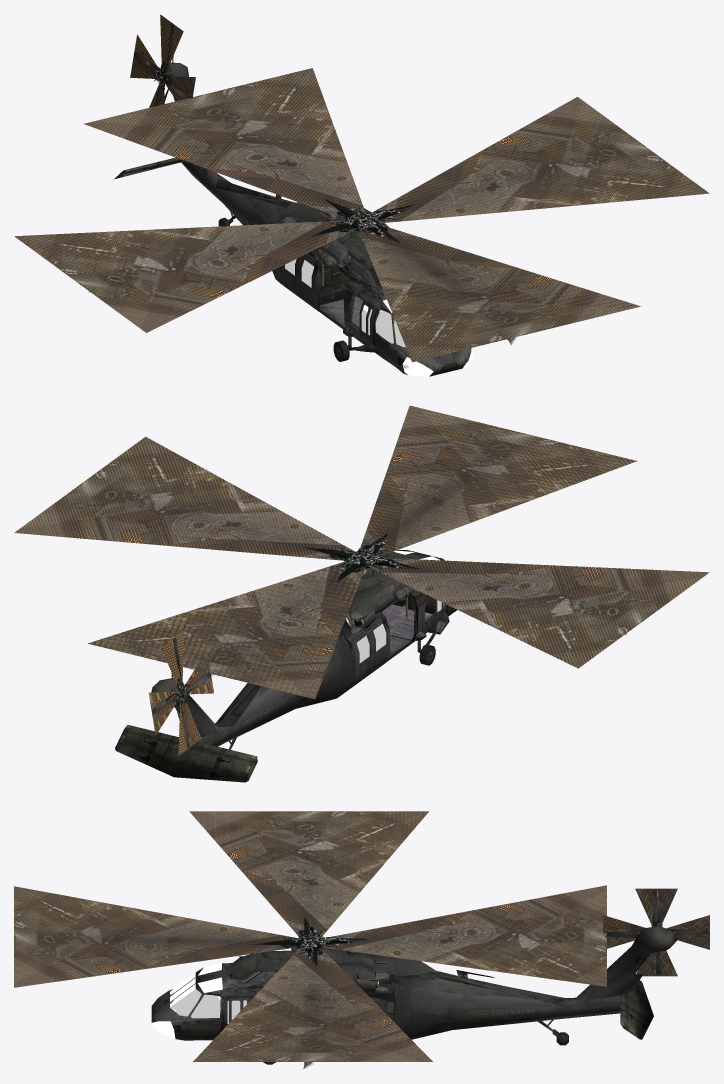
File: fblkhawf.glb
The picture shows the model from 3 angles, top to bottom: view 1: azimuth 30°, elevation 25°; view 2: azimuth 150°, elevation 25°; view 3: azimuth 270°, elevation 25°; orthographic projection. The views are drawn at different scales.
Visible parts, largest first — view 1: 03 Mesh1.002, 03 Mesh0.003, 03 Mesh1, 03 Mesh1.001, 01 Mesh0, 01 Mesh0.001, 05 Mesh0.002, 01 Mesh0.002, 02 Mesh0, 01 Mesh2, 01 Mesh1.002, 01 Mesh0.003 (+1 smaller); view 2: 03 Mesh1.002, 03 Mesh0.003, 03 Mesh1, 01 Mesh0, 03 Mesh1.001, 01 Mesh0.001, 05 Mesh0.002, 01 Mesh0.002, 02 Mesh0, 04 Mesh0.002, 01 Mesh2; view 3: 03 Mesh1.002, 03 Mesh0.003, 01 Mesh0, 03 Mesh1, 03 Mesh1.001, 01 Mesh0.001, 05 Mesh0.002, 05 Mesh0.003, 01 Mesh0.002, 01 Mesh1.001, 01 Mesh1.002, 02 Mesh0 (+2 smaller).
Part boxes in pixels (x1,y1,x2,y2): 03 Mesh1.002: [15, 68, 709, 362]; 03 Mesh0.003: [15, 68, 709, 362]; 03 Mesh1: [151, 99, 645, 334]; 03 Mesh1.001: [102, 95, 596, 315]; 01 Mesh0: [121, 69, 470, 376]; 01 Mesh0.001: [114, 62, 471, 368]; 05 Mesh0.002: [130, 14, 195, 107]; 01 Mesh0.002: [114, 161, 406, 356]; 02 Mesh0: [88, 199, 516, 345]; 01 Mesh2: [285, 259, 472, 376]; 01 Mesh1.002: [285, 260, 408, 367]; 01 Mesh0.003: [117, 174, 378, 334]; 03 Mesh1.002: [14, 405, 709, 698]; 03 Mesh0.003: [14, 406, 708, 698]; 03 Mesh1: [76, 432, 556, 671]; 01 Mesh0: [115, 552, 457, 765]; 03 Mesh1.001: [167, 436, 621, 672]; 01 Mesh0.001: [115, 550, 450, 782]; 05 Mesh0.002: [148, 630, 213, 755]; 01 Mesh0.002: [216, 577, 446, 726]; 02 Mesh0: [211, 534, 626, 675]; 04 Mesh0.002: [152, 638, 211, 748]; 01 Mesh2: [356, 557, 444, 663]; 03 Mesh1.002: [14, 811, 606, 1061]; 03 Mesh0.003: [14, 811, 606, 1061]; 01 Mesh0: [151, 928, 676, 1040]; 03 Mesh1: [15, 844, 532, 1060]; 03 Mesh1.001: [64, 814, 605, 1060]; 01 Mesh0.001: [157, 926, 673, 1064]; 05 Mesh0.002: [603, 888, 709, 976]; 05 Mesh0.003: [607, 888, 709, 976]; 01 Mesh0.002: [171, 948, 572, 1025]; 01 Mesh1.001: [157, 966, 246, 1038]; 01 Mesh1.002: [170, 989, 246, 1019]; 02 Mesh0: [253, 917, 367, 1069].
Bounding box in the file's own units: 25.11 × 7.26 × 29.48.
12 materials, 8 textured.
